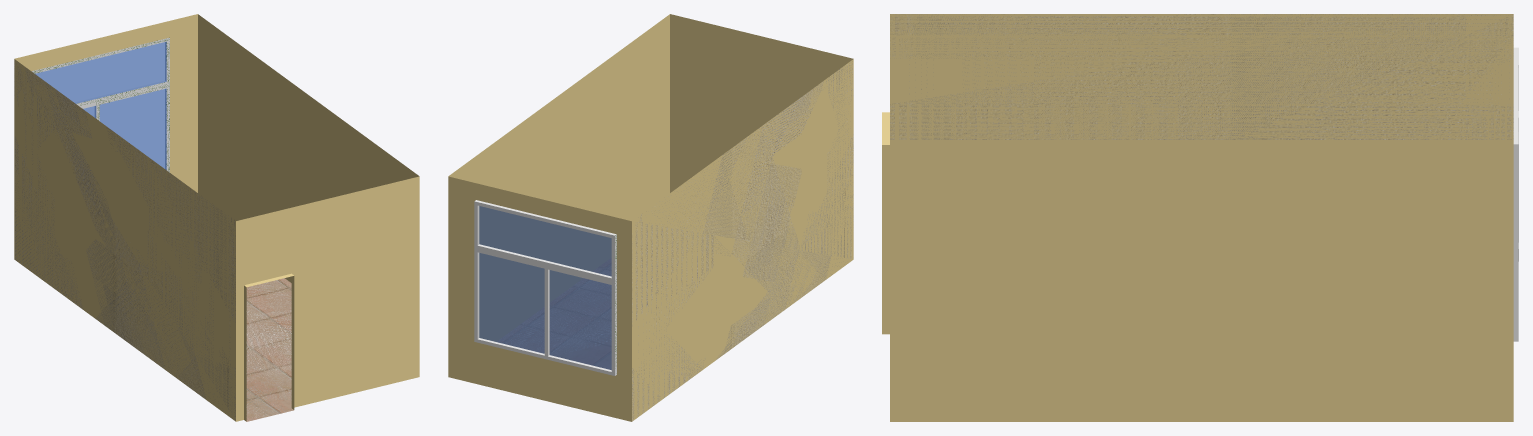
The model's file is DES024.obj.
3 views of the same model, side by side, from view 1: azimuth 30°, elevation 25°; view 2: azimuth 150°, elevation 25°; view 3: azimuth 270°, elevation 25° (orthographic). The views are drawn at different scales.
Visible parts, largest first — view 1: Mesh7 DES24 Model, Mesh1 ventana1_1 DES24 Model; view 2: Mesh7 DES24 Model, Mesh1 ventana1_1 DES24 Model; view 3: Mesh7 DES24 Model, Mesh1 ventana1_1 DES24 Model.
Boxes of the visible parts, box(x1,y1,x2,y2) form: Mesh7 DES24 Model: box(14, 14, 419, 421); Mesh1 ventana1_1 DES24 Model: box(32, 37, 169, 172); Mesh7 DES24 Model: box(448, 14, 853, 421); Mesh1 ventana1_1 DES24 Model: box(474, 200, 616, 375); Mesh7 DES24 Model: box(882, 14, 1513, 421); Mesh1 ventana1_1 DES24 Model: box(1513, 47, 1518, 341).
Size of the model in its own units: 2.87 by 3 by 6.14.
Materials: 6 (2 with a texture image).
